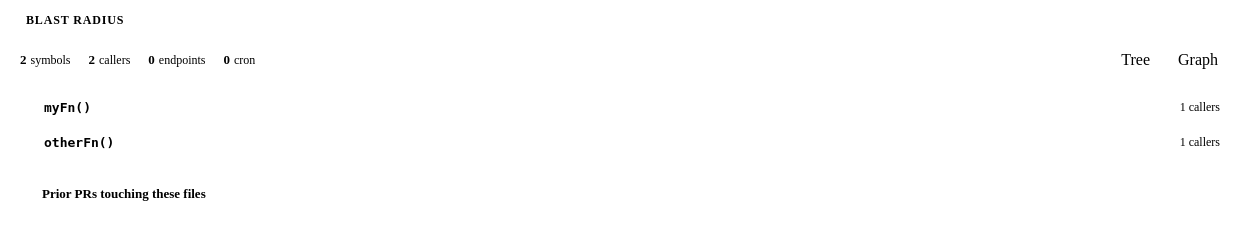
Test: BlastRadiusCard › clicking a collapsed symbol band expands it
This screenshot has width=1249, height=236.
Expected: the text "src/service.ts:99" is not shown
Step 1. Click the button "otherFn() 1 callers" → (79,142), box [16, 127, 1232, 158]
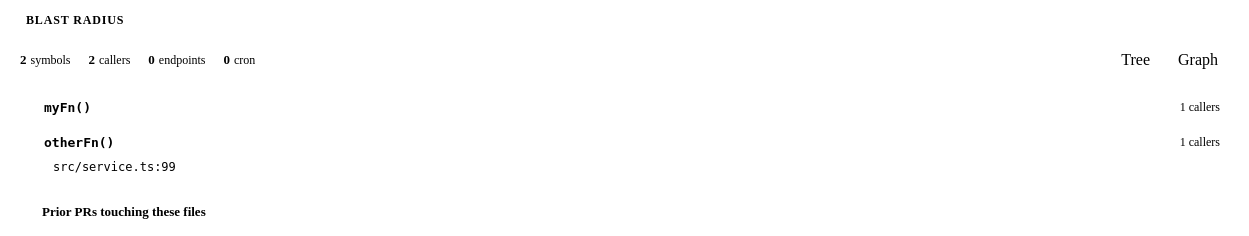
Expected: the text "src/service.ts:99" is shown, [53, 160, 176, 174]
